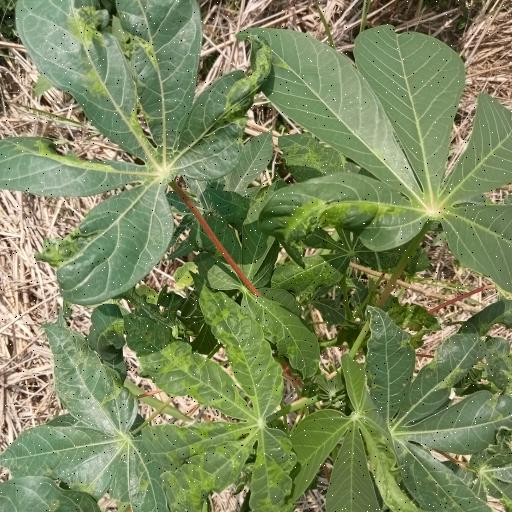Cassava_Mosaic: (0, 0, 269, 301), (119, 292, 298, 507), (364, 300, 512, 506)
